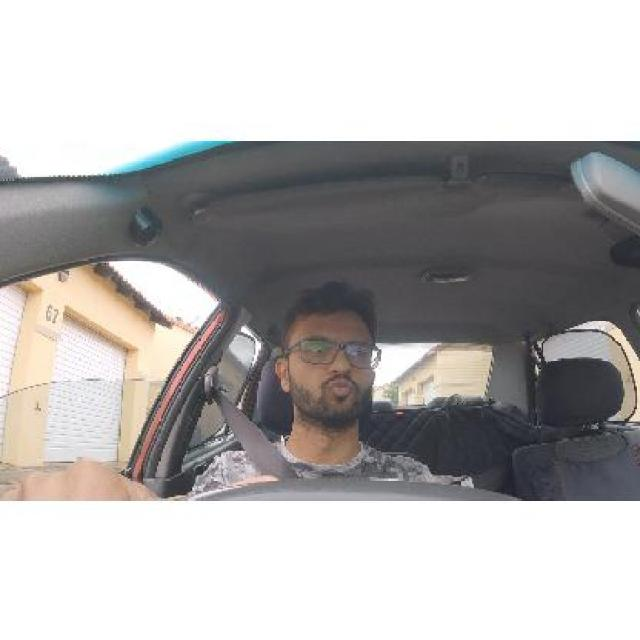person: (266, 276, 386, 442)
